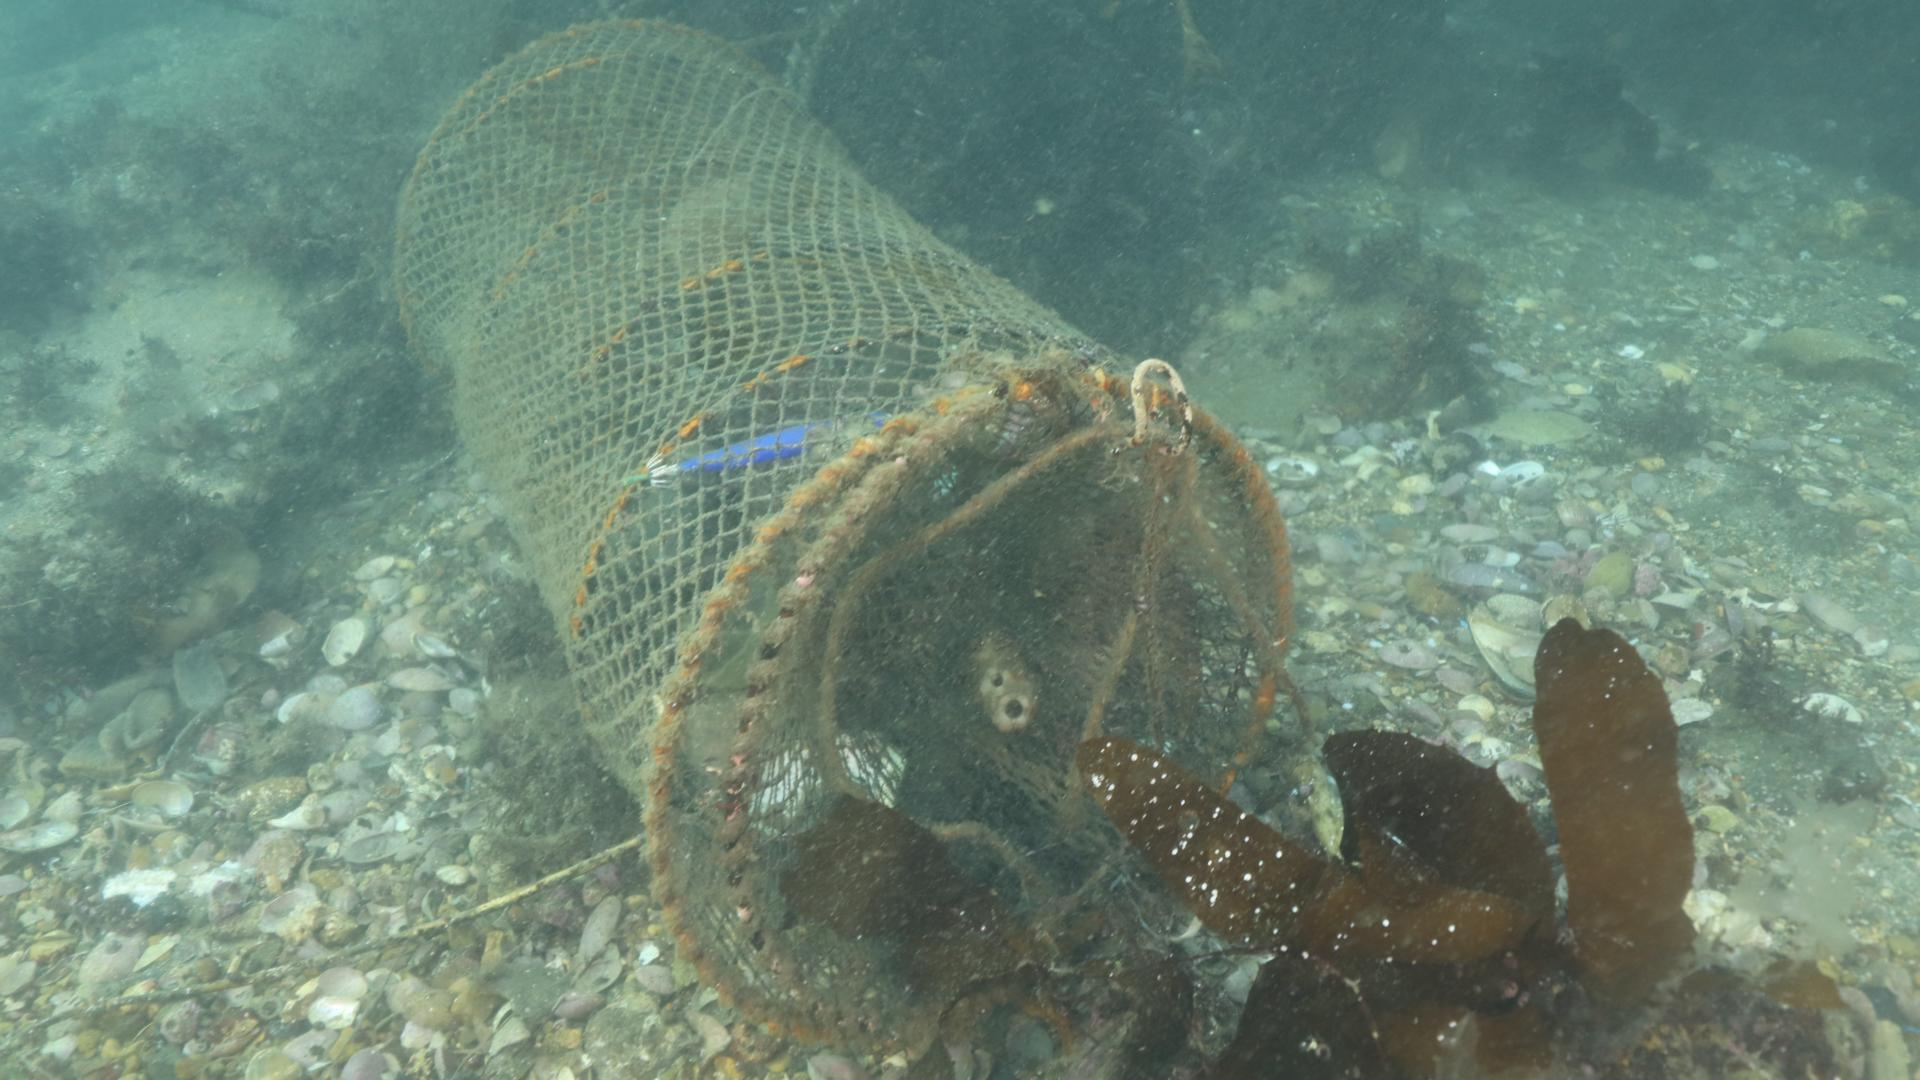spring fish trap: (389, 15, 1294, 1048)
